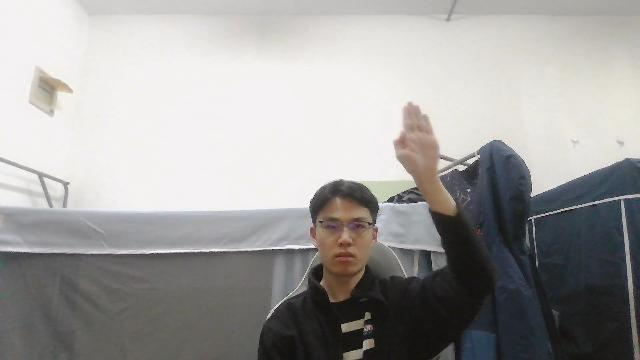five: (392, 100, 441, 171)
